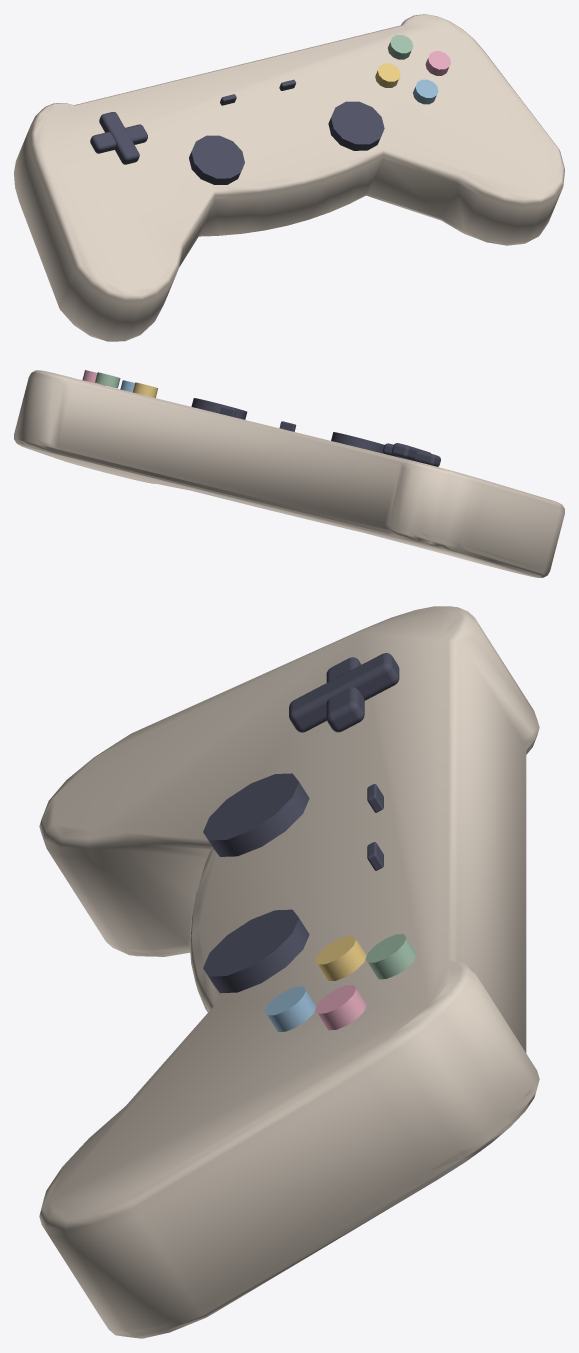
File: little_controller.glb
The picture shows the model from 3 angles, top to bottom: view 1: azimuth 30°, elevation 25°; view 2: azimuth 150°, elevation 25°; view 3: azimuth 270°, elevation 25°; orthographic projection. The views are drawn at different scales.
Size of the model in its own units: 0.4 by 0.1332 by 0.1786.
